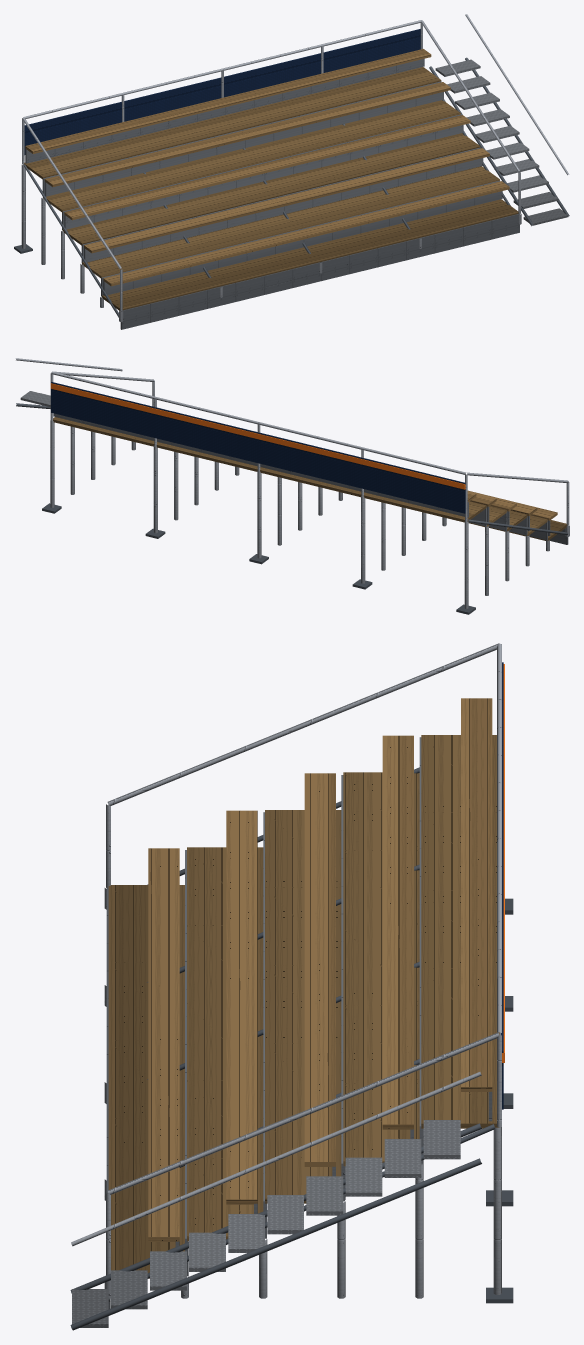
Rendered from arquibancada.glb.
3 renders of one model, top to bottom at view 1: azimuth 30°, elevation 25°; view 2: azimuth 150°, elevation 25°; view 3: azimuth 270°, elevation 25°, orthographic. The views are drawn at different scales.
Visible parts, largest first — view 1: arquibancada_madeira, arquibancada; view 2: arquibancada, arquibancada_madeira; view 3: arquibancada_madeira, arquibancada.
Boxes of the visible parts, x1=… form: arquibancada_madeira: x1=23, y1=49, x2=518, y2=311; arquibancada: x1=14, y1=14, x2=569, y2=329; arquibancada: x1=15, y1=358, x2=569, y2=614; arquibancada_madeira: x1=53, y1=417, x2=567, y2=540; arquibancada_madeira: x1=108, y1=698, x2=499, y2=1278; arquibancada: x1=70, y1=643, x2=513, y2=1330.
Size of the model in its own units: 11.18 by 3.38 by 4.81.
Materials: 5 (4 with a texture image).
